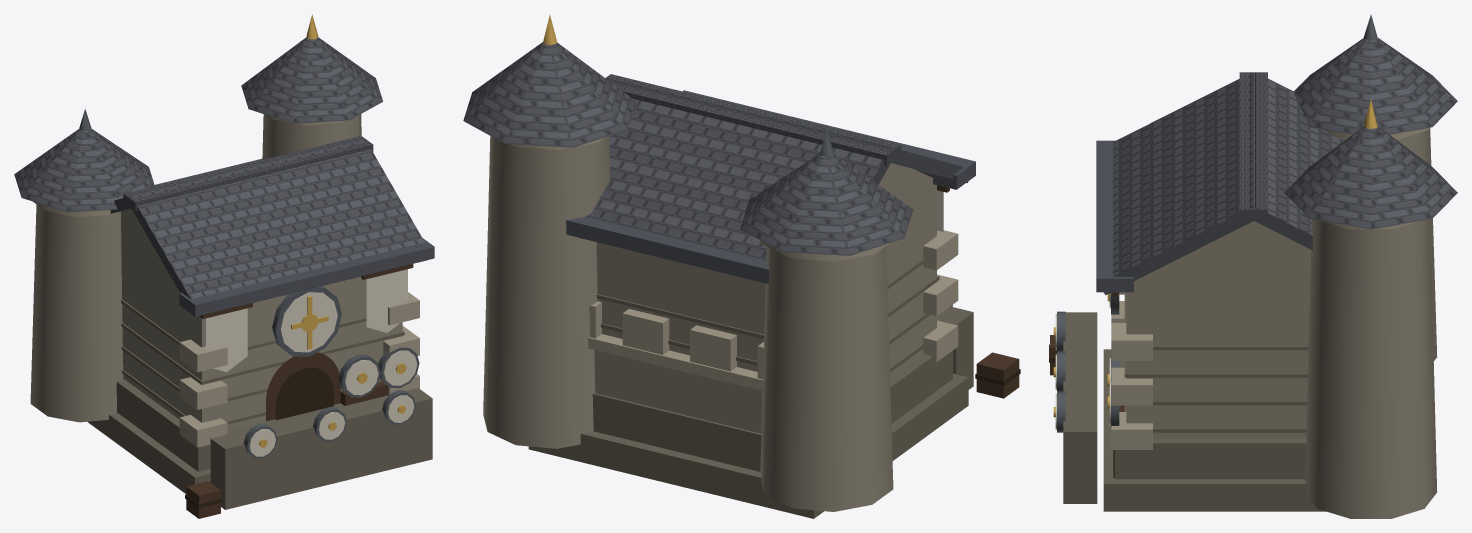
File: shield-L3.glb
The picture shows the model from 3 angles, left to right: view 1: azimuth 30°, elevation 25°; view 2: azimuth 150°, elevation 25°; view 3: azimuth 270°, elevation 25°; orthographic projection. The views are drawn at different scales.
Parts seen in each view (by area): view 1: building-shield-L3; view 2: building-shield-L3; view 3: building-shield-L3.
Part boxes in pixels (x1,y1,x2,y2): building-shield-L3: [14, 14, 434, 518]; building-shield-L3: [463, 14, 1020, 518]; building-shield-L3: [1049, 14, 1457, 518].
Size of the model in its own units: 2.56 by 2.4 by 2.17.
10 materials, 1 textured.
